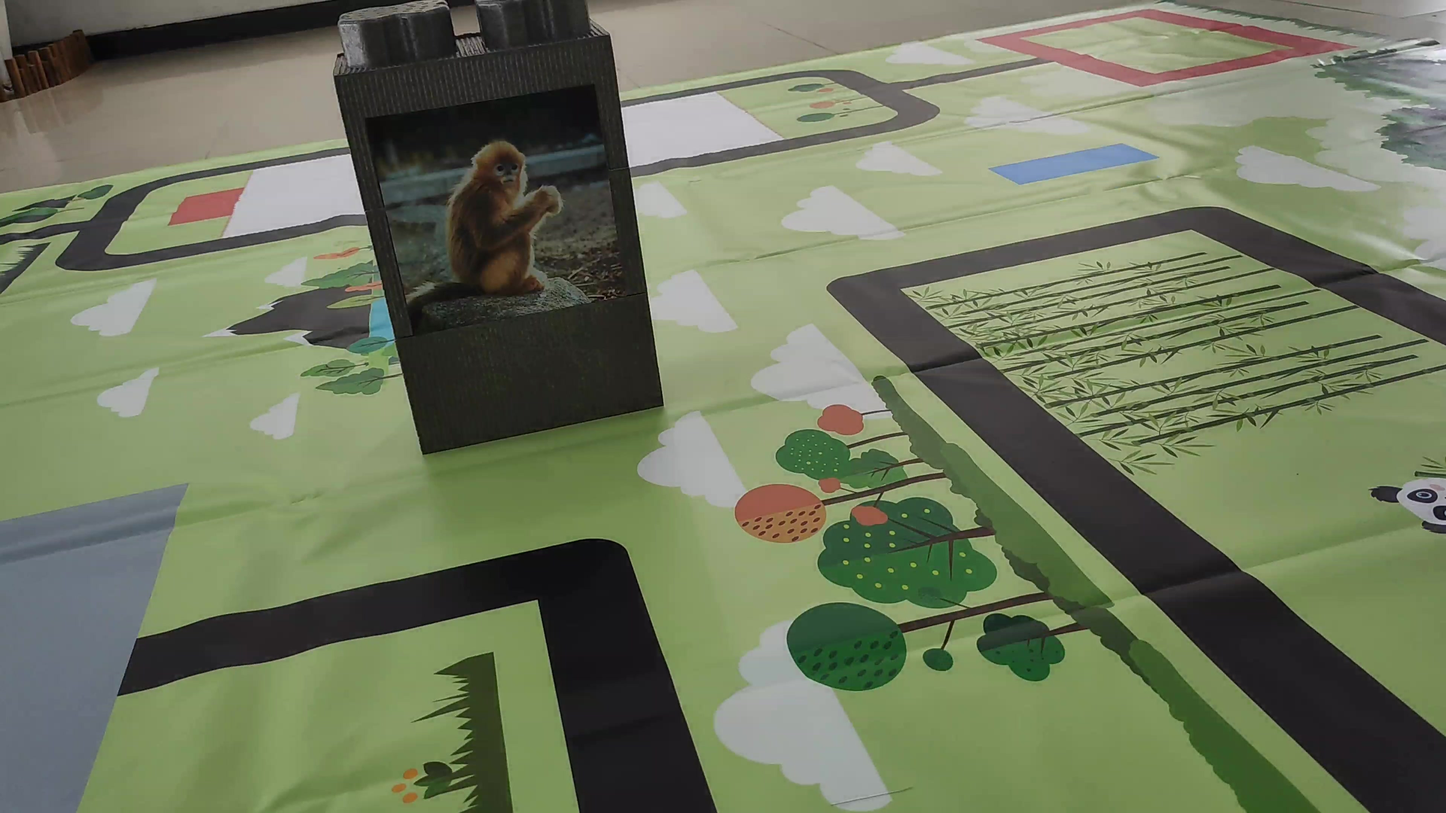monkey: (407, 130, 600, 324)
